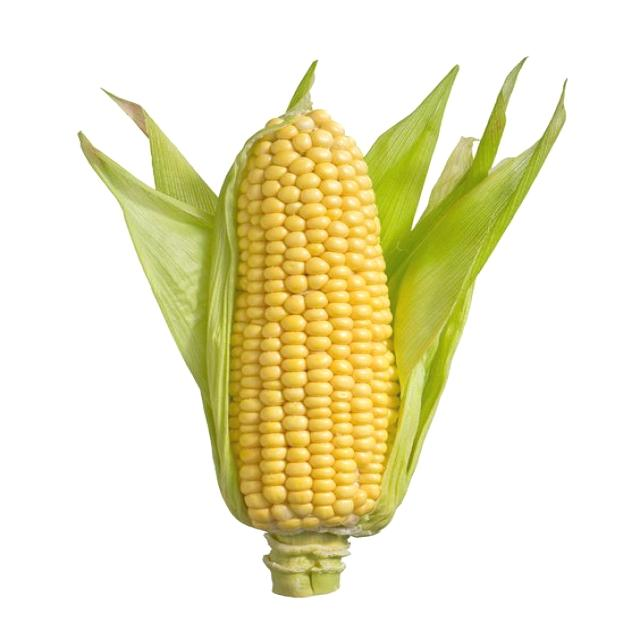Corn: (200, 91, 436, 538)
